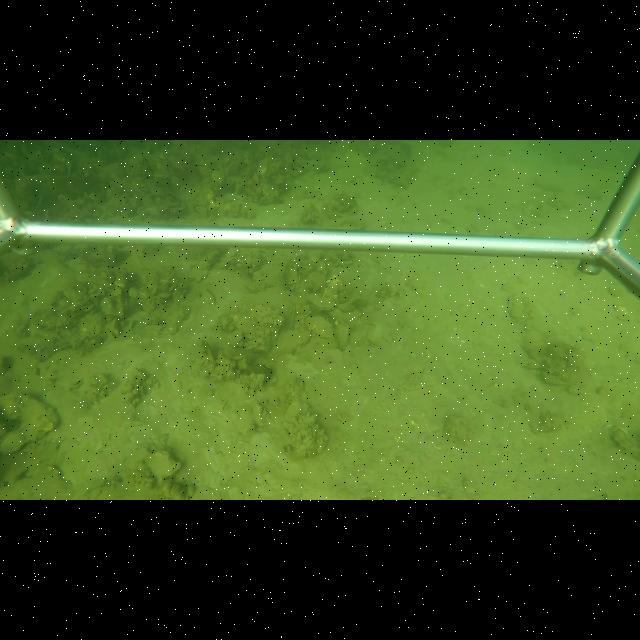Oyster-Closed: (1, 392, 61, 456), (126, 446, 184, 479), (264, 325, 314, 357), (304, 315, 334, 339), (332, 321, 349, 350), (312, 294, 338, 311), (253, 402, 265, 427), (227, 330, 244, 347), (202, 288, 216, 306), (282, 257, 293, 278), (318, 260, 328, 276)
Oyster-Open: (166, 192, 181, 202)
